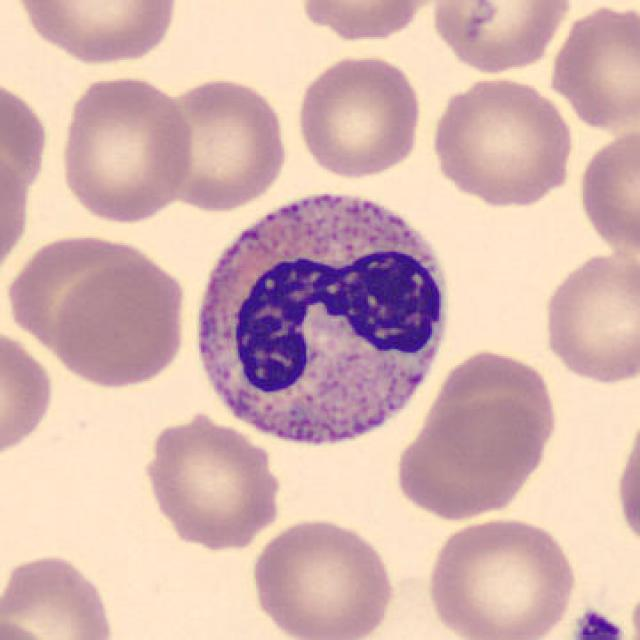Neutrophil: (183, 174, 457, 462)
Platelets: (570, 608, 628, 640)
RBC: (55, 72, 197, 226), (137, 409, 286, 552), (8, 237, 177, 359), (390, 396, 550, 524), (427, 74, 578, 208), (423, 515, 581, 640), (153, 74, 291, 213), (247, 515, 398, 640), (50, 256, 190, 390), (419, 348, 562, 472), (291, 51, 425, 182), (539, 247, 638, 386), (546, 2, 638, 134), (9, 0, 183, 67), (428, 0, 576, 76), (0, 548, 121, 640), (574, 124, 638, 255), (0, 322, 57, 463), (0, 72, 52, 222), (295, 0, 439, 44), (0, 138, 36, 288), (611, 407, 640, 558), (0, 612, 62, 640)
